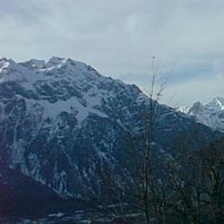neutral: (3, 40, 223, 224)
